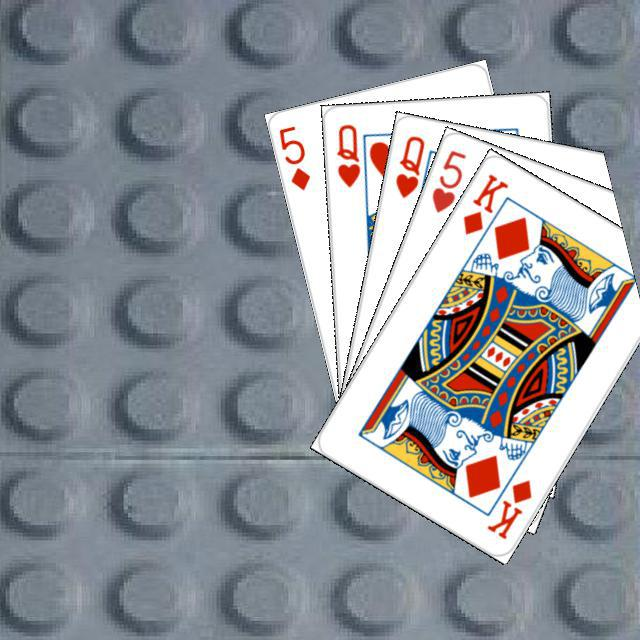5d: (274, 120, 312, 192)
5h: (426, 145, 468, 215)
Kd: (457, 168, 510, 237), (482, 475, 534, 542)
Qh: (390, 130, 426, 200), (331, 119, 362, 189)
